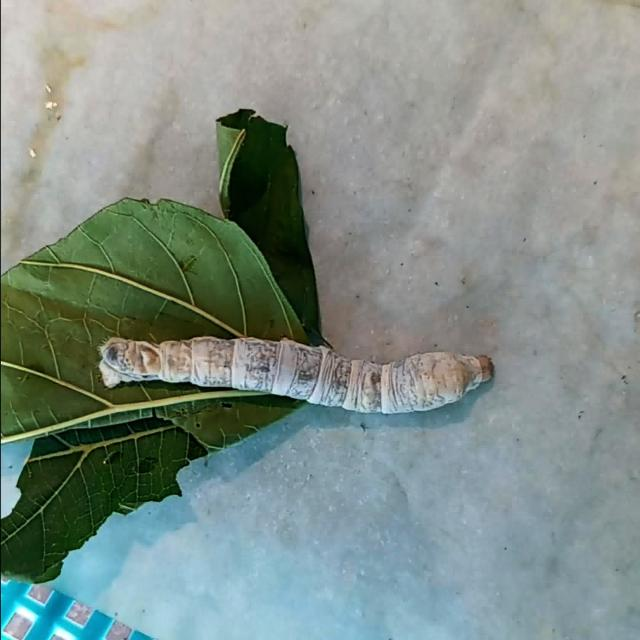Grasserie: (85, 281, 502, 440)
